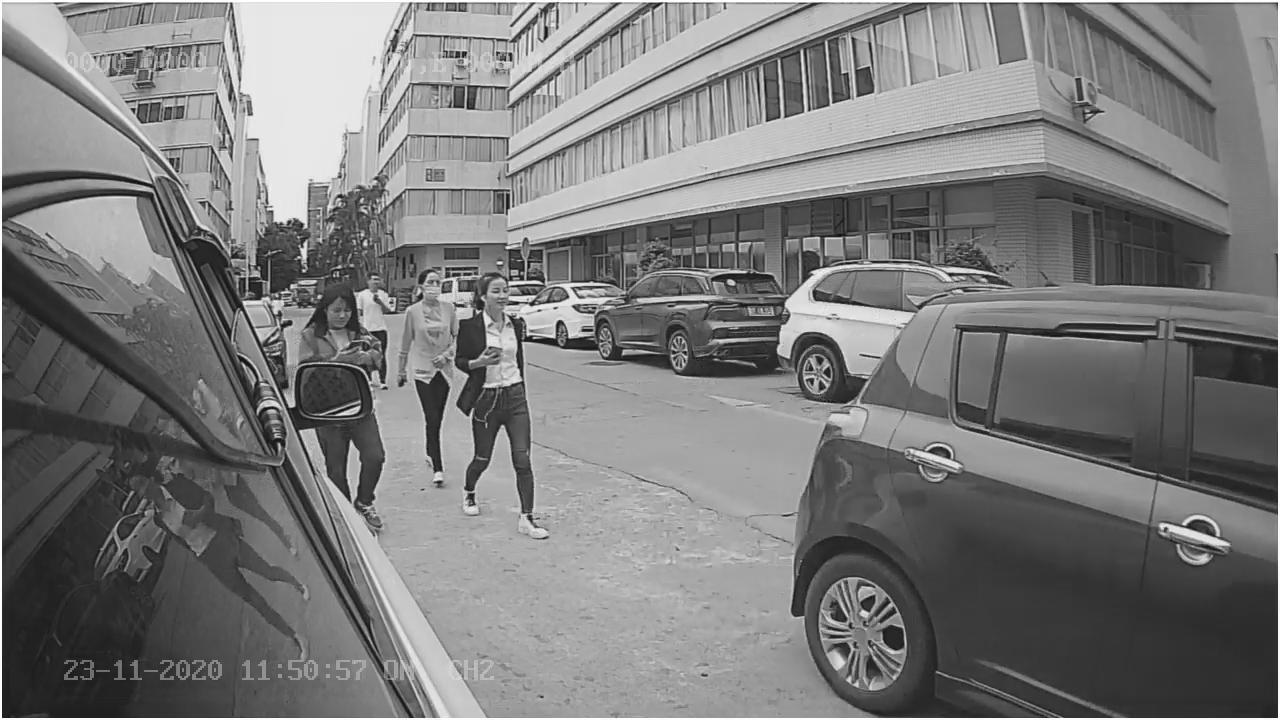person: (457, 271, 563, 540)
